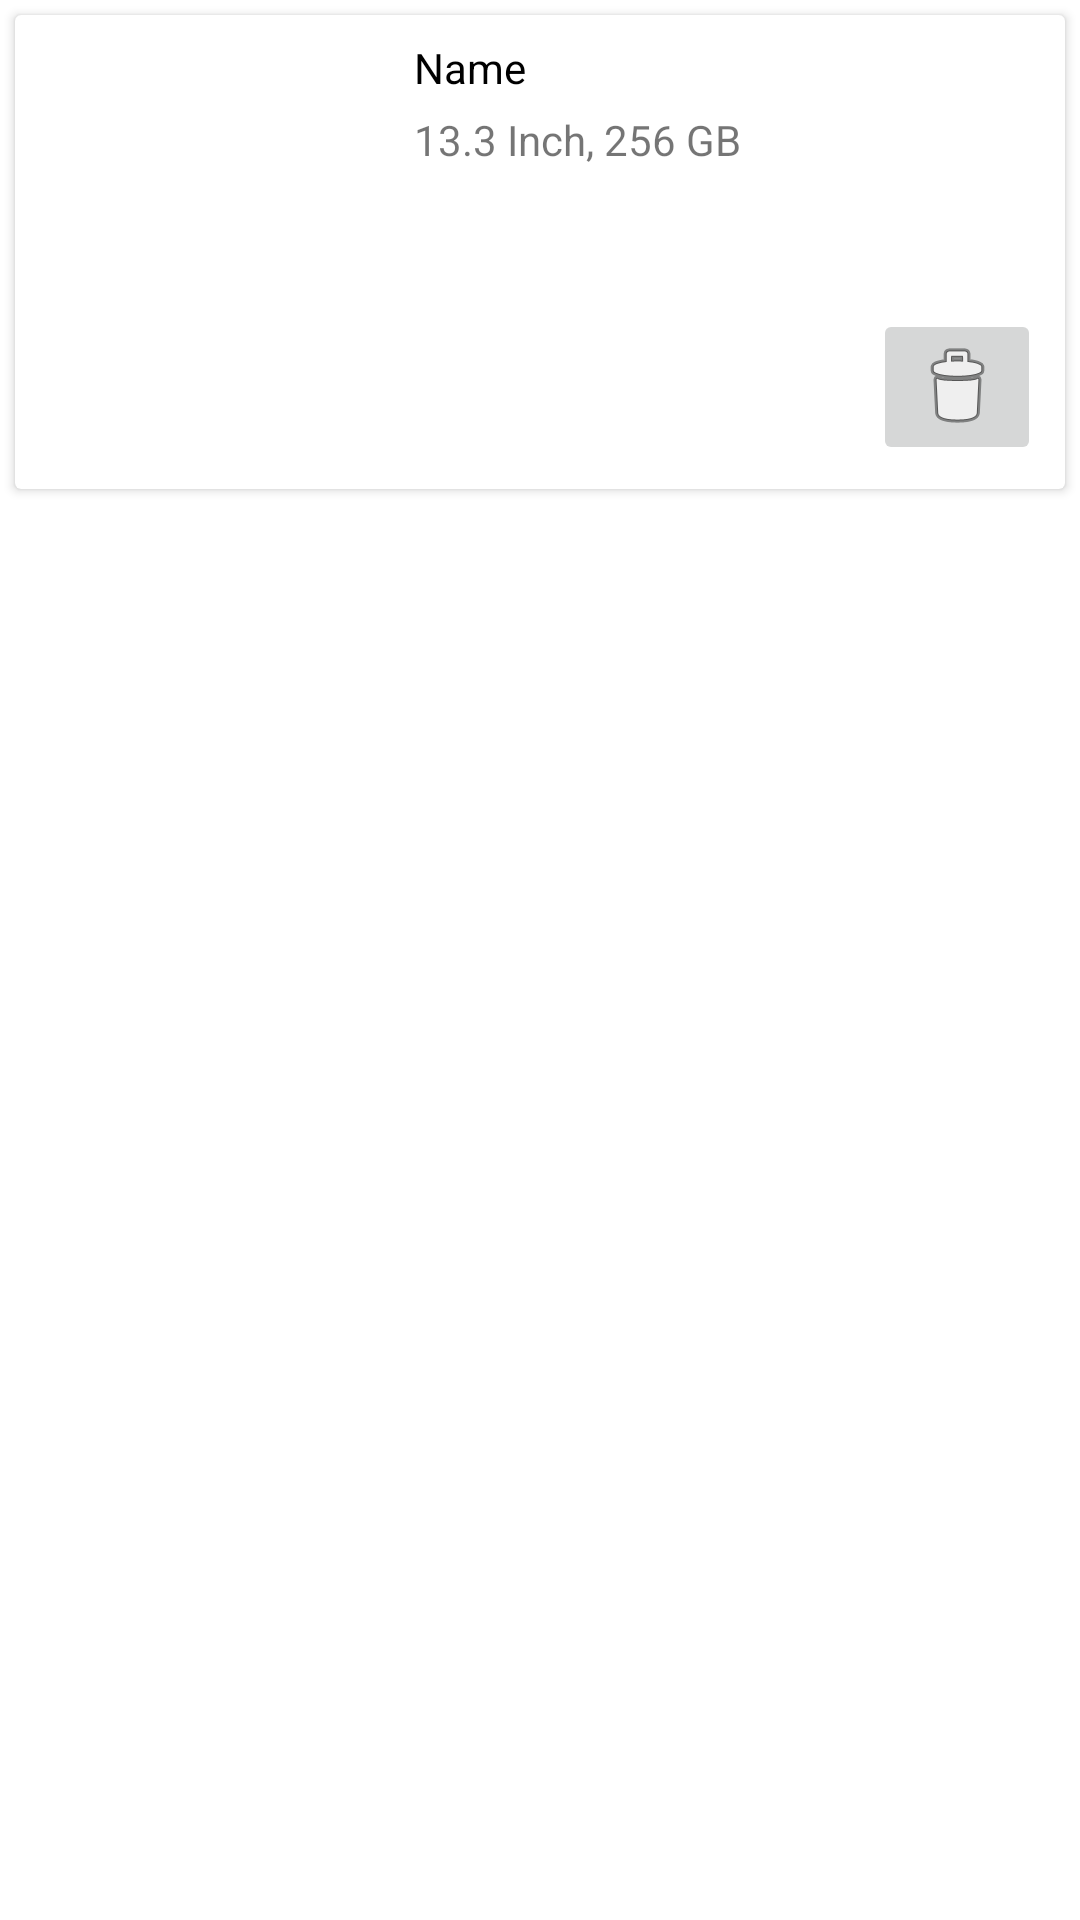

Where to tap for icons on this 1080w x 1920h app screen, as (x,y):
delete: (957,387)
